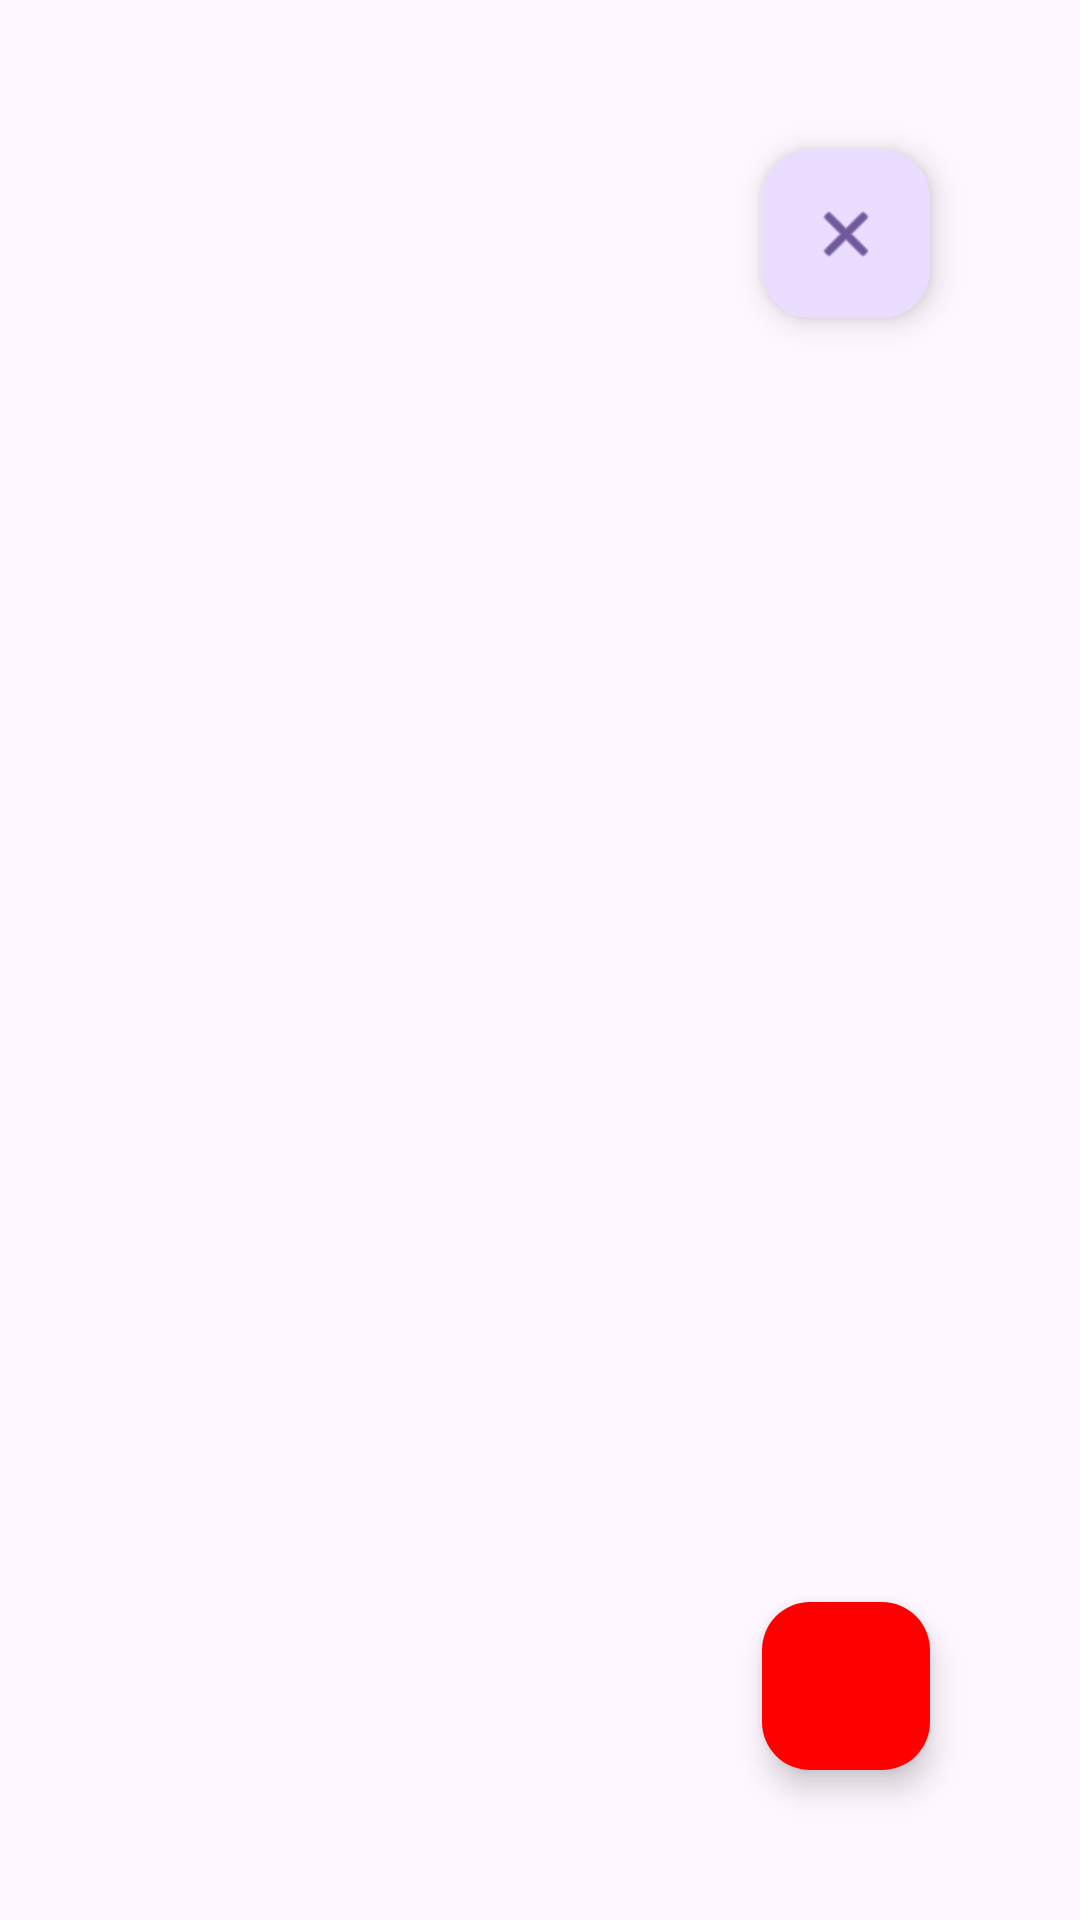

Icon bounding boxes for this 1080w x 1920h phone screenshot, format bbox=[x1, y1, x2, y2]:
close clear cancel: bbox=[823, 211, 869, 257]
